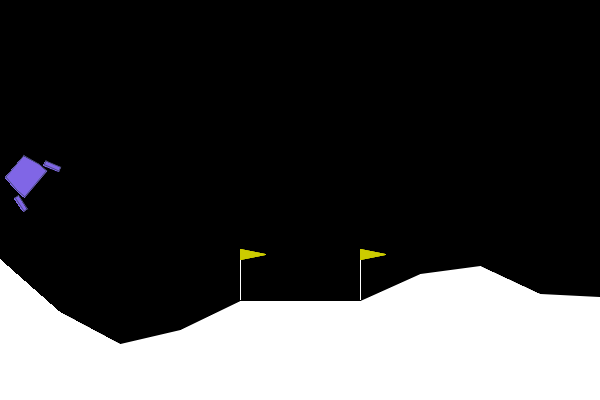lander: (0, 142, 63, 214)
